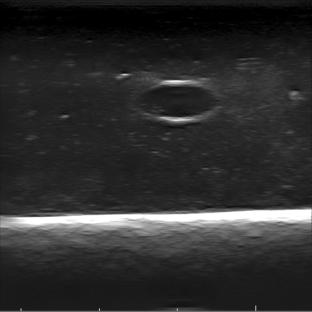vessel: (134, 78, 222, 123)
